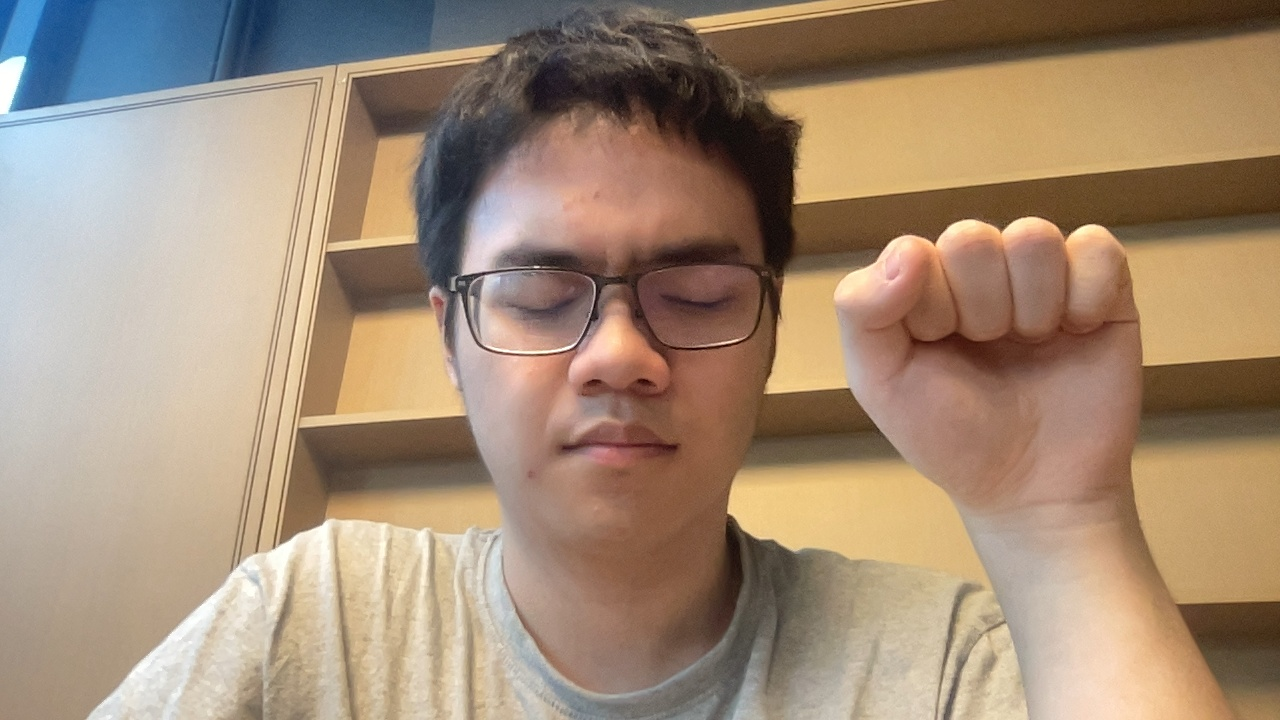yes: (836, 207, 1215, 538)
